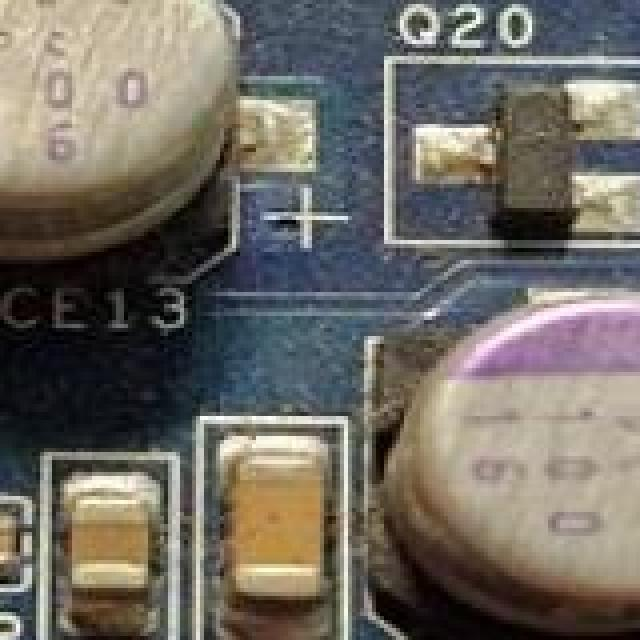capacitor: (356, 268, 640, 640), (0, 0, 260, 244), (208, 420, 342, 622), (48, 476, 164, 620), (0, 500, 24, 604)
transistor: (412, 72, 640, 244)
